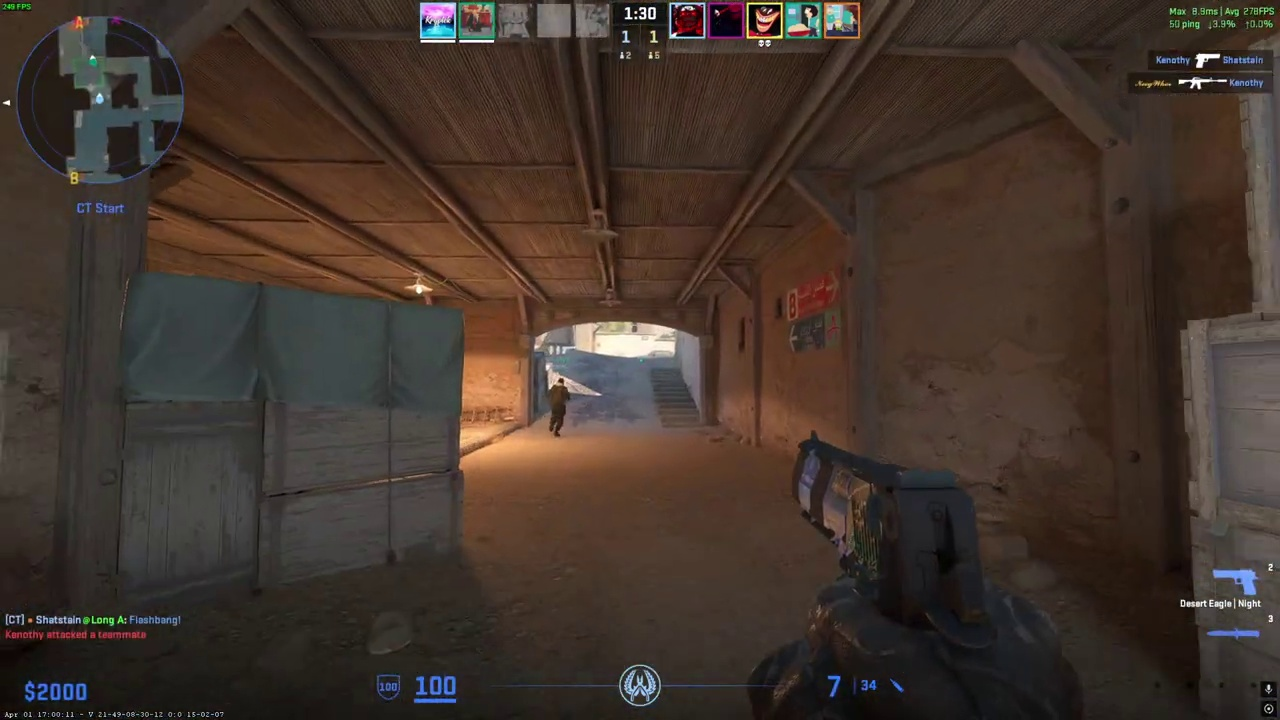CT: (548, 378, 570, 437)
